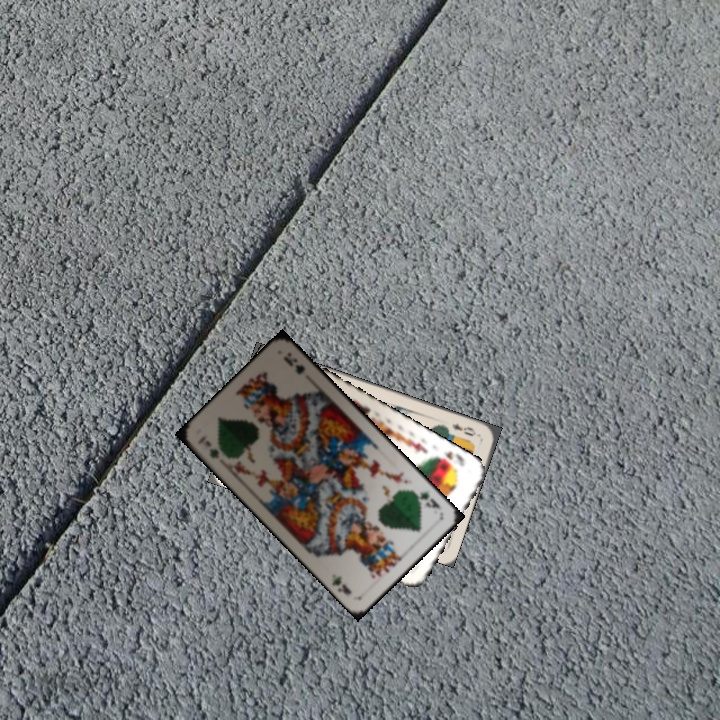EO: (448, 419, 482, 439)
GK: (409, 487, 443, 511), (201, 436, 222, 461)
SK: (432, 447, 467, 473)
